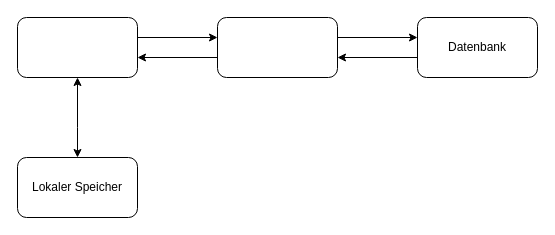
The diagram is 555 pixels wide and 235 high, and some of its shapes have lost their labels. Each missing label, with the centre of its shape:
"API" goes at pixel 277 47.
"Frontend Anwendung" goes at pixel 77 47.
